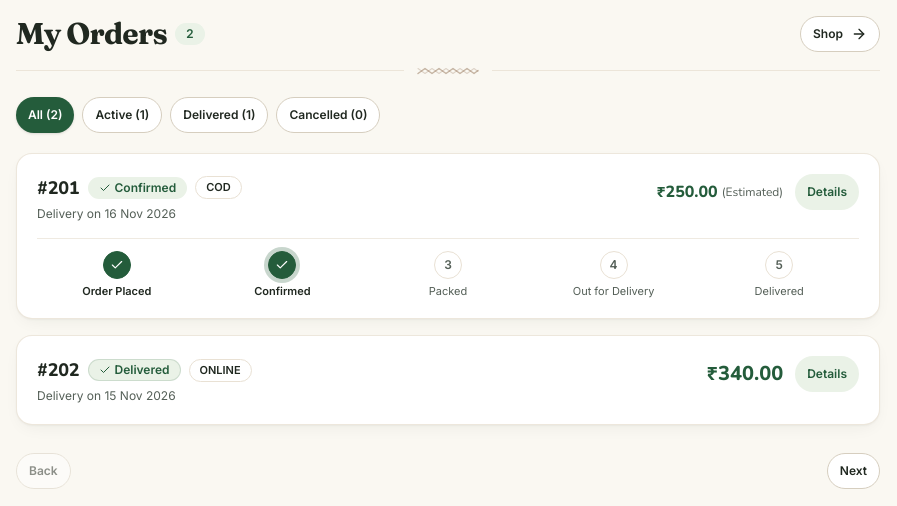
Test case: Final UI/UX Redesign — Collapsible Sidebar & Operational Views › renders CustomerOrdersPage with active/delivered/cancelled filters and progress stepper
This screenshot has width=897, height=506.
Check: the heading "#201" is shown, box x1=37 y1=174 x2=80 y2=202
Check: the heading "#202" is shown, box x1=37 y1=356 x2=80 y2=384
Click the button "Delivered (1)": (219, 114) x1=170 y1=96 x2=268 y2=132
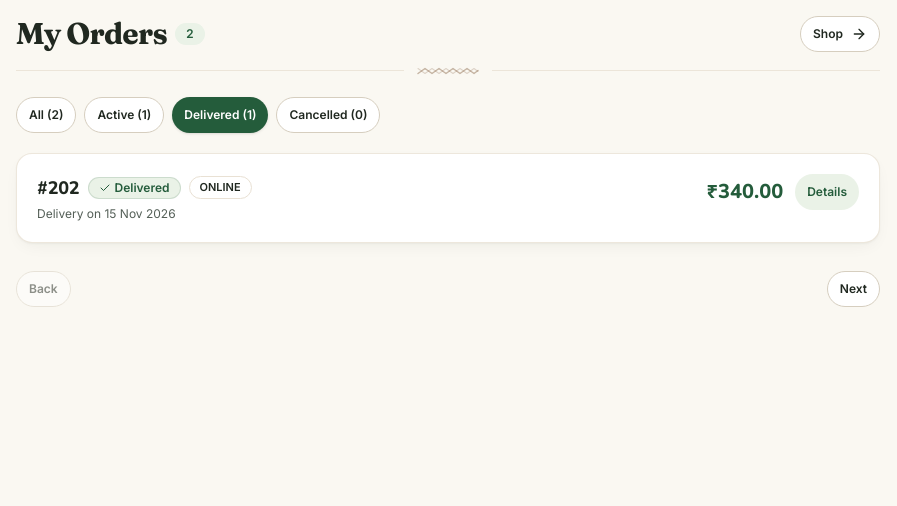
Check: the heading "#202" is shown, box x1=37 y1=174 x2=80 y2=202
Check: the link "#201" is gone
